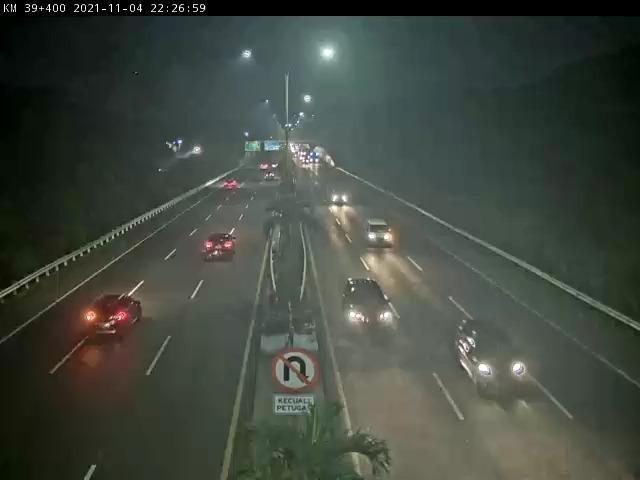car: (454, 317, 530, 394), (343, 277, 396, 338), (84, 295, 142, 341), (366, 218, 401, 250), (204, 231, 236, 264)
